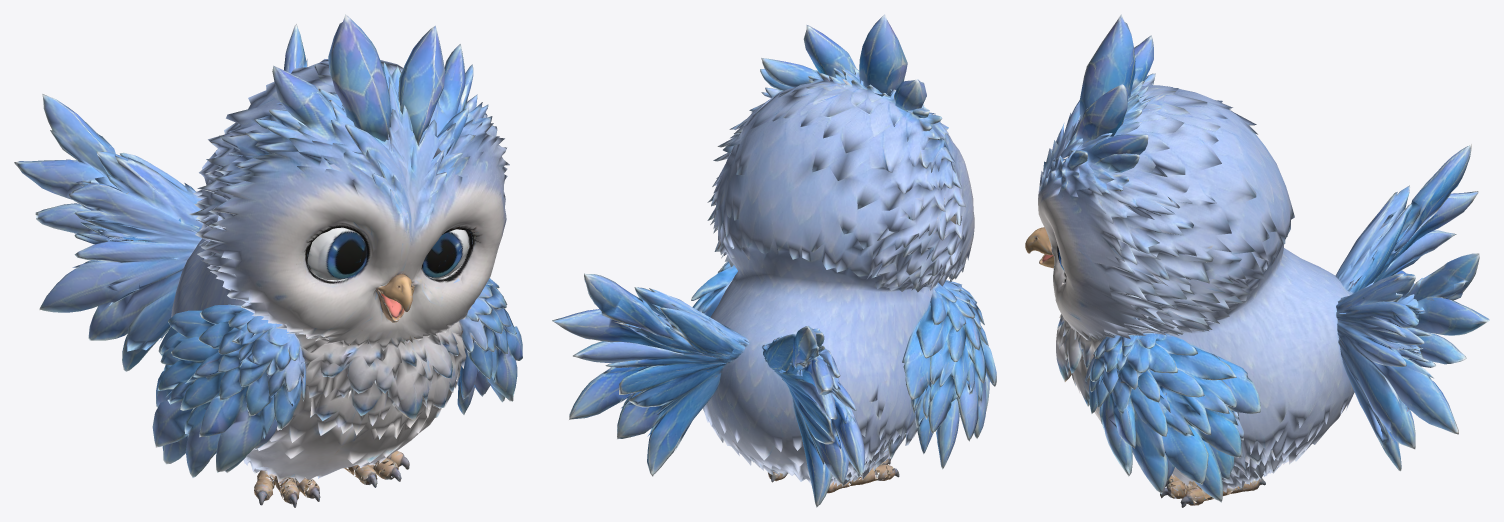
Rendered from frostowl.glb.
3 views of the same model, side by side, from view 1: azimuth 30°, elevation 25°; view 2: azimuth 150°, elevation 25°; view 3: azimuth 270°, elevation 25° (orthographic). The views are drawn at different scales.
Parts seen in each view (by area): view 1: frostowl; view 2: frostowl; view 3: frostowl.
Part boxes in pixels (<box>): frostowl: <box>14,14,522,507</box>; frostowl: <box>552,14,996,507</box>; frostowl: <box>1025,14,1489,507</box>.
Bounding box in the file's own units: 0.7067 × 1 × 0.9308.
Materials: 1 (1 with a texture image).
